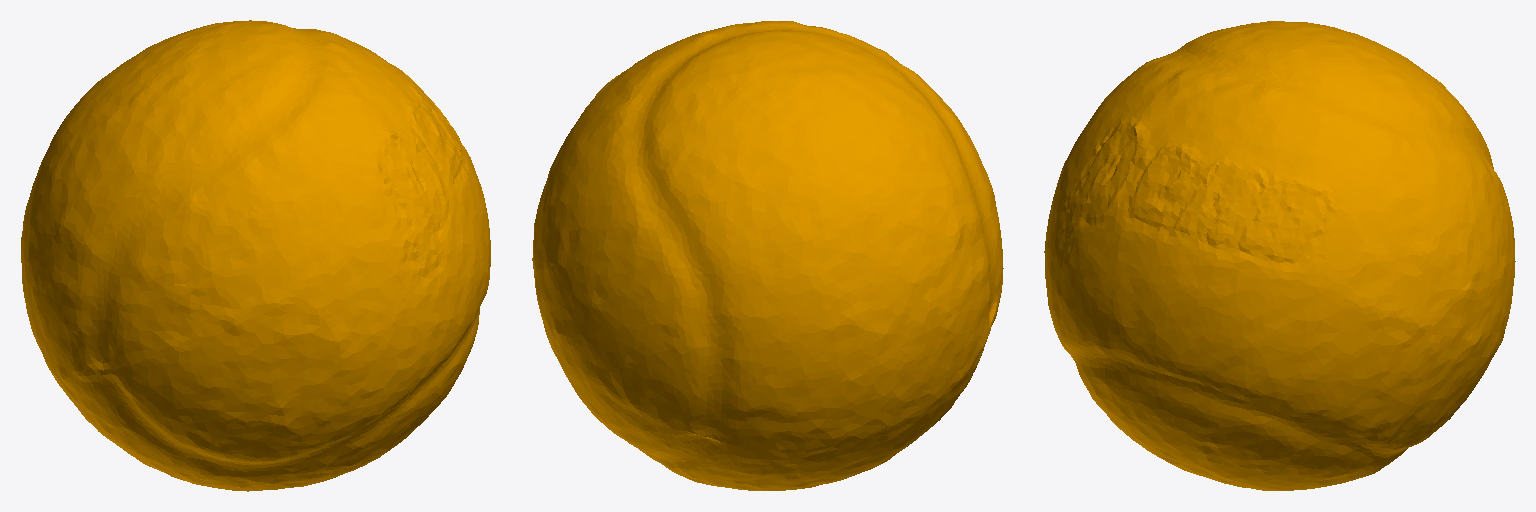
The robot description file, URDF, robot "ball":
<?xml version="1.0"?>
<robot name="ball">
  <link name="ball">
    <visual>
      <origin xyz="0 0 0"/>
      <geometry>
        <mesh filename="ycb/056_tennis_ball/google_16k/textured.obj" scale="1.1934954497985975 1.1934954497985975 1.1934954497985975"/>
	  </geometry>
    </visual>
    <collision>
      <origin xyz="0 0 0"/>
      <geometry>
        <sphere radius="0.04"/>
      </geometry>
    </collision>
    <inertial>
        <mass value="0.05" />
        <inertia ixx="0.0001" ixy="0.0" ixz="0.0" iyy="0.0001" iyz="0.0" izz="0.0001"/>
    </inertial>
  </link>
</robot>

--- Render facts (derived) ---
3 views of the same robot in one strip: view 1: azimuth 30°, elevation 25°; view 2: azimuth 150°, elevation 25°; view 3: azimuth 270°, elevation 25° (orthographic).
Model ball with 1 links and 0 joints (none), rooted at ball, posed every joint at zero.
Links seen in each view (by area): view 1: ball; view 2: ball; view 3: ball.
Link boxes in pixels (x1=…): ball: x1=21, y1=20, x2=490, y2=491; ball: x1=532, y1=21, x2=1003, y2=490; ball: x1=1044, y1=21, x2=1515, y2=490.
Size in the robot's own frame: 0.0799 by 0.08 by 0.0793 metres.
1 mesh visuals loaded from 1 distinct referenced files (1 OBJ).